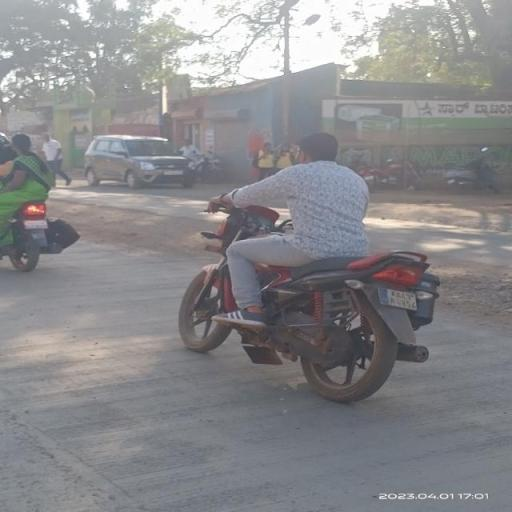bike: (173, 126, 460, 404)
numberplate: (379, 286, 425, 314)
withouthelmet: (300, 130, 338, 161)
